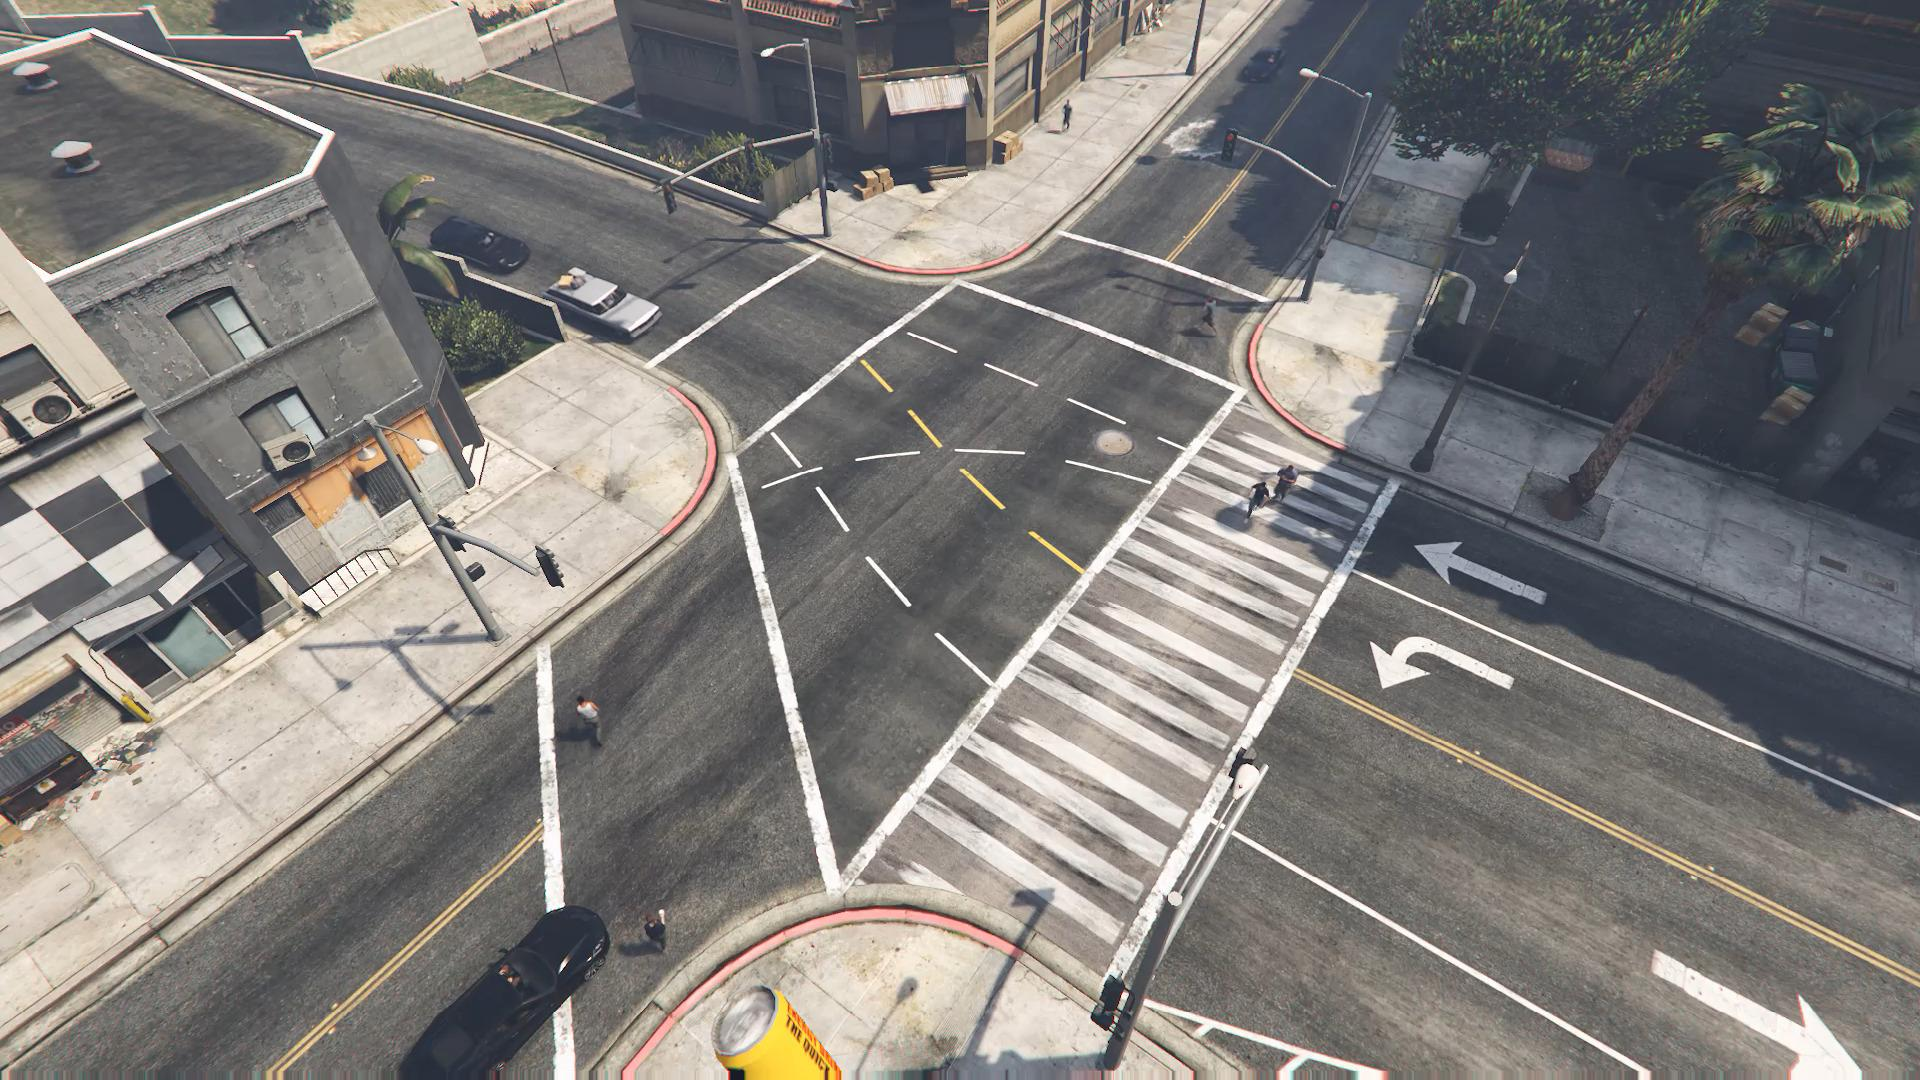car: (396, 905, 609, 1079), (542, 265, 661, 342), (429, 214, 530, 274), (1244, 45, 1286, 80)
